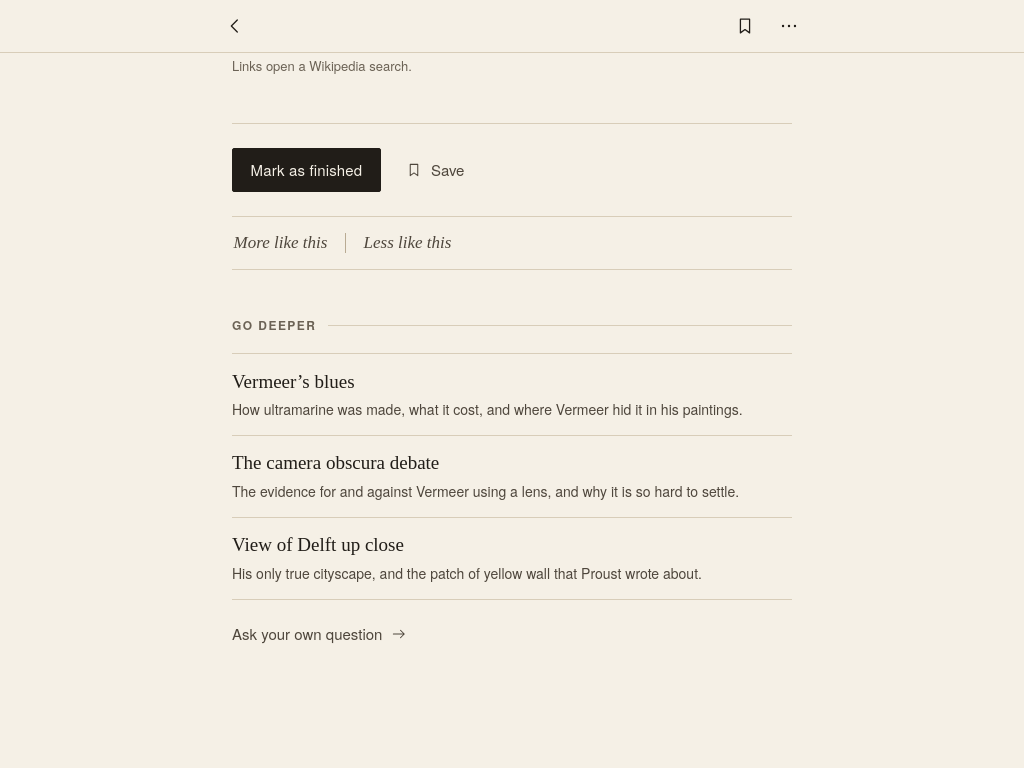
Test: Lesson reader › asks a question of its own
This screenshot has width=1024, height=768.
Later steps or results of the test are not shown.
(page scrolled)
Click the button "Ask your own question". click: (320, 634)
box: [232,612,408,656]
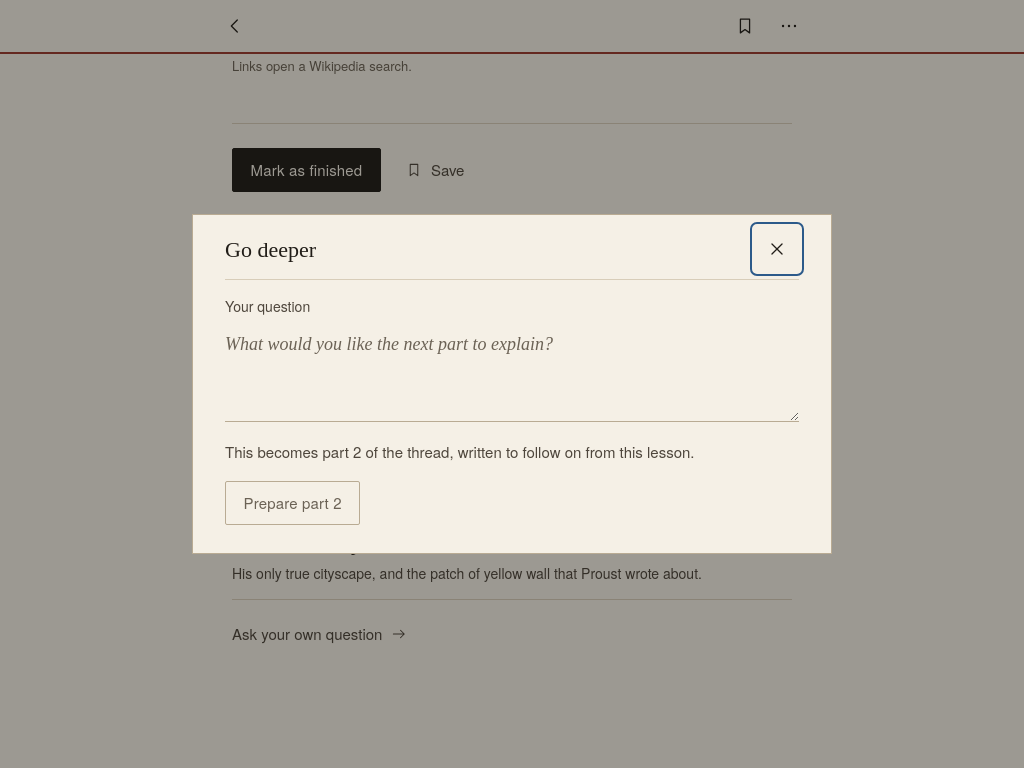
Expected: the button "Prepare part 2" is disabled, [225,481,360,525]
